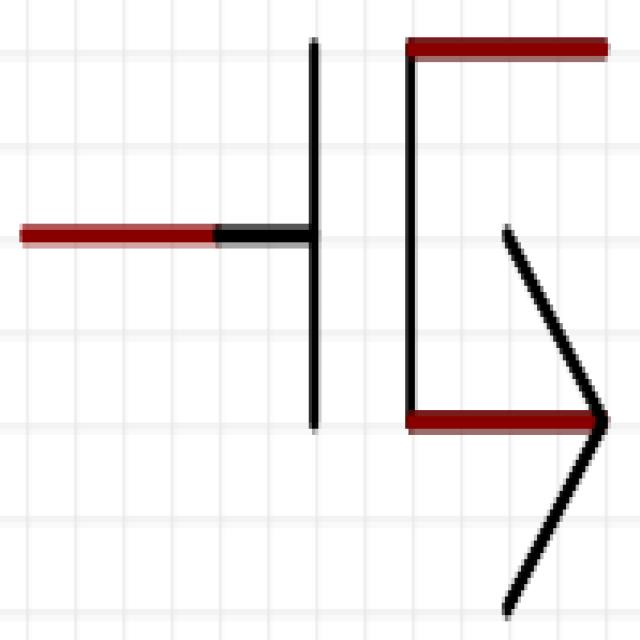nmos: (31, 1, 632, 626)
